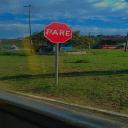Pare: (42, 19, 76, 46)
